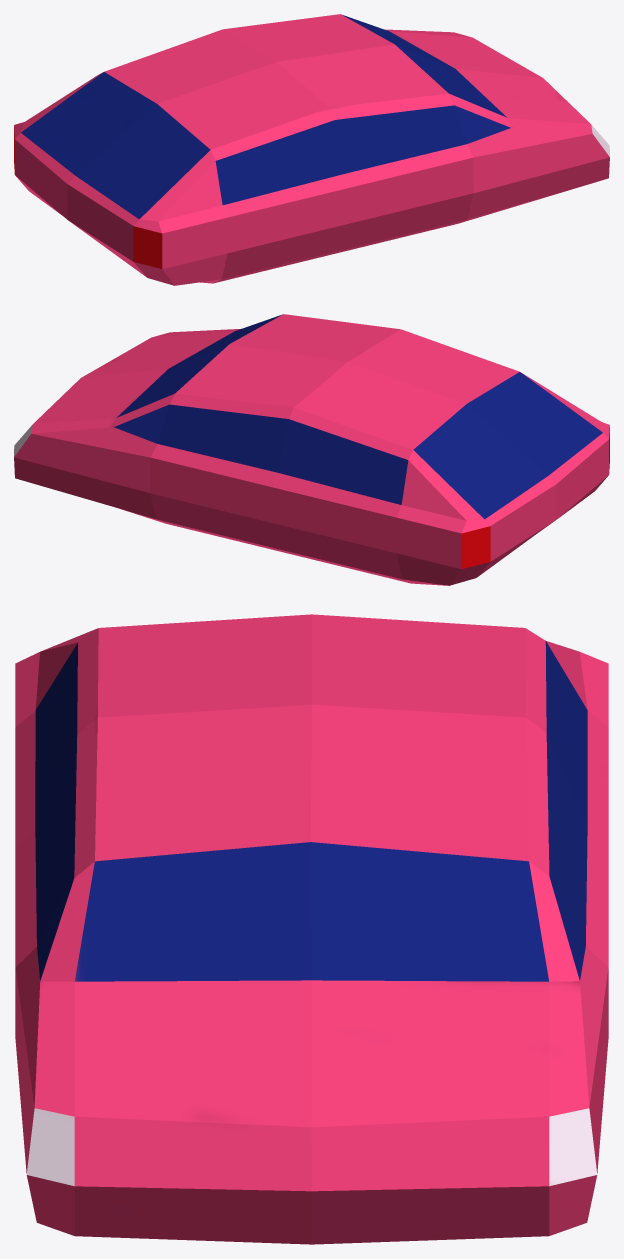
The model's file is futurcivcar4.fbx.
3 views of the same model, one above another, from view 1: azimuth 30°, elevation 25°; view 2: azimuth 150°, elevation 25°; view 3: azimuth 270°, elevation 25° (orthographic). The views are drawn at different scales.
Parts seen in each view (by area): view 1: Cube; view 2: Cube; view 3: Cube.
Boxes of the visible parts, x1,y1,x2,y2 form: Cube: (14,14,609,285); Cube: (14,314,609,585); Cube: (15,614,608,1244).
Bounding box in the file's own units: 475 × 138 × 250.
